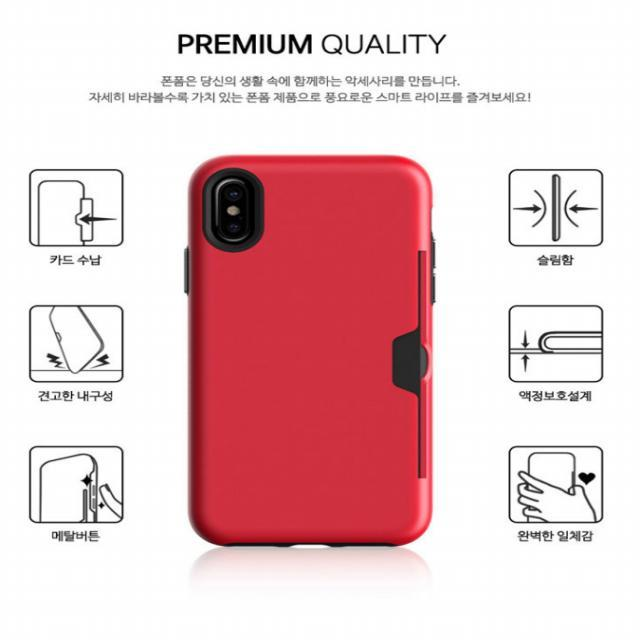phone: (184, 152, 437, 547)
